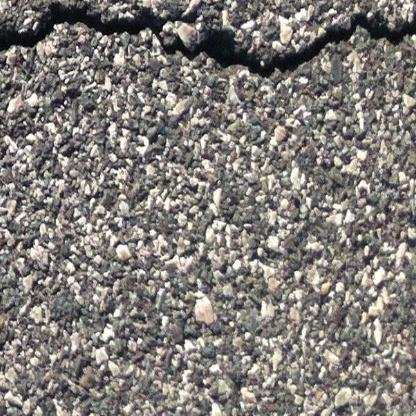Cracks: (0, 0, 416, 84)
